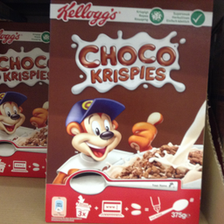cereal: (50, 1, 214, 224)
